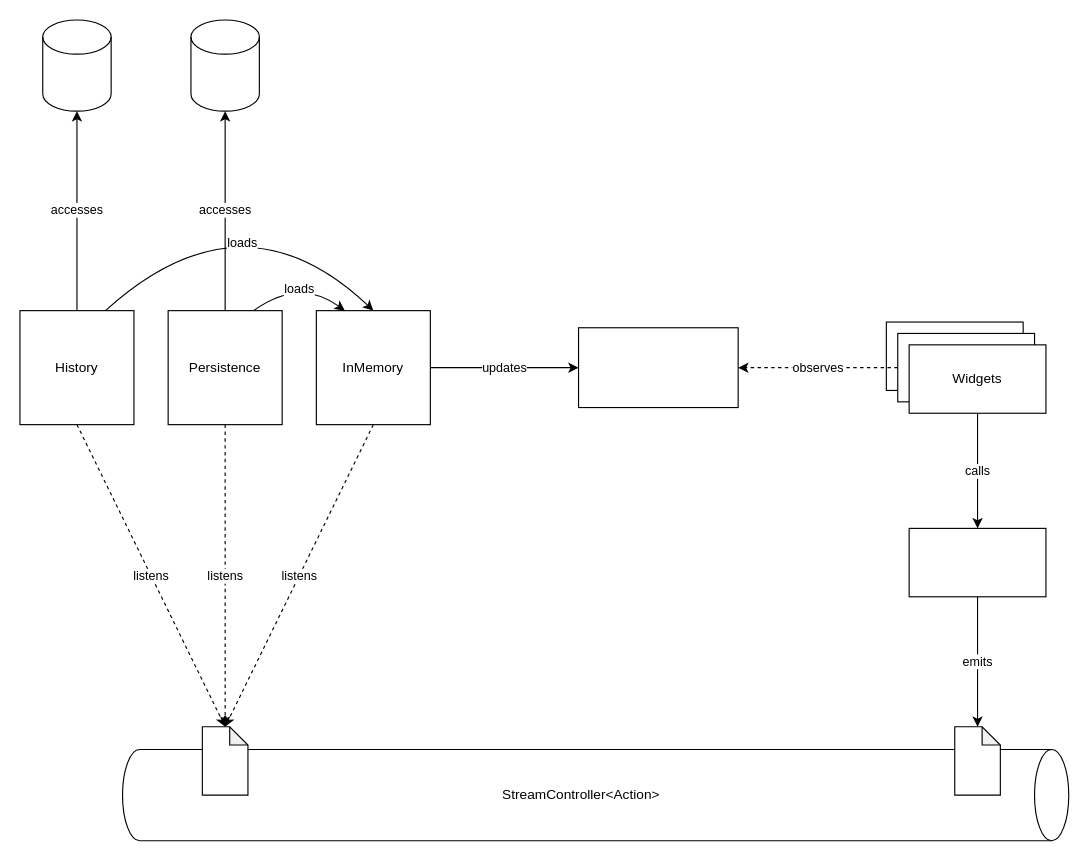
The diagram is 1089 pixels wide and 861 high, and some of its shapes have lost their labels. The centre of each missing label's shape, as x and y in pixels:
"Controller" goes at point 977,562.
"ViewModel" goes at point 657,367.
